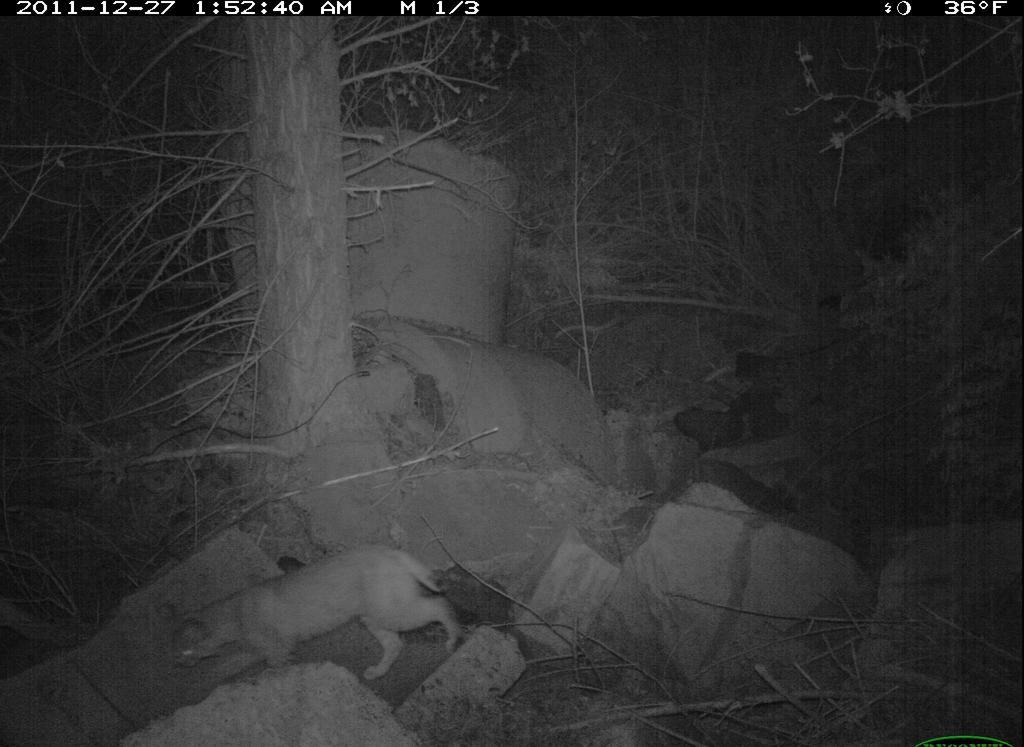bobcat: (163, 539, 469, 694)
